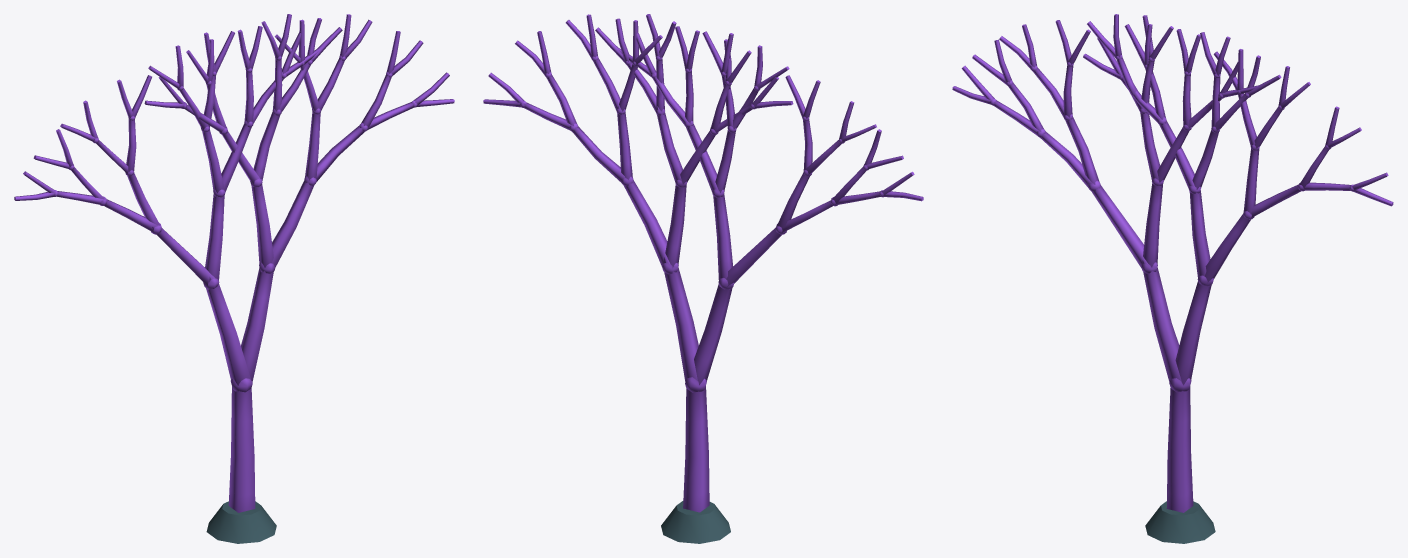
The model's file is coral_fan.glb.
3 views of the same model, side by side, from view 1: azimuth 30°, elevation 25°; view 2: azimuth 150°, elevation 25°; view 3: azimuth 330°, elevation 25° (orthographic).
Parts seen in each view (by area): view 1: coral_fan_mesh; view 2: coral_fan_mesh; view 3: coral_fan_mesh.
Boxes of the visible parts, x1,y1,x2,y2 form: coral_fan_mesh: (14,14,454,543); coral_fan_mesh: (483,14,923,543); coral_fan_mesh: (952,14,1393,543).
Size of the model in its own units: 2.54 by 2.79 by 0.36.
